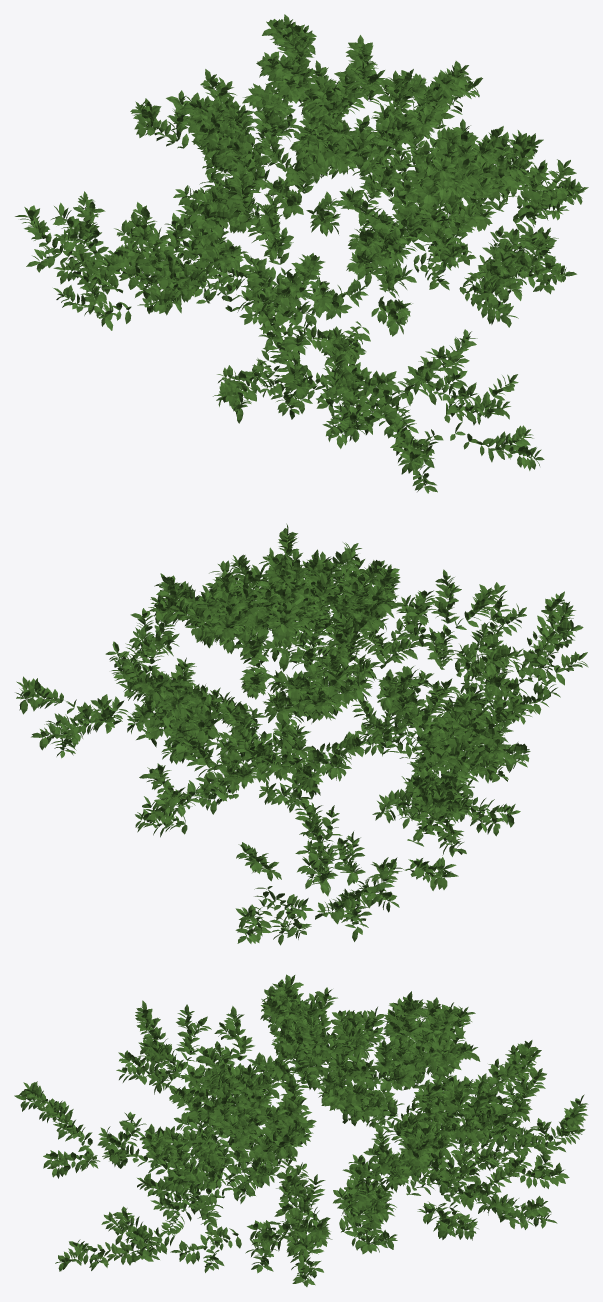
File: leaves_3.glb
3 views of the same model, one above another, from view 1: azimuth 30°, elevation 25°; view 2: azimuth 150°, elevation 25°; view 3: azimuth 270°, elevation 25° (orthographic). The views are drawn at different scales.
Size of the model in its own units: 11.55 by 7.96 by 14.52.
